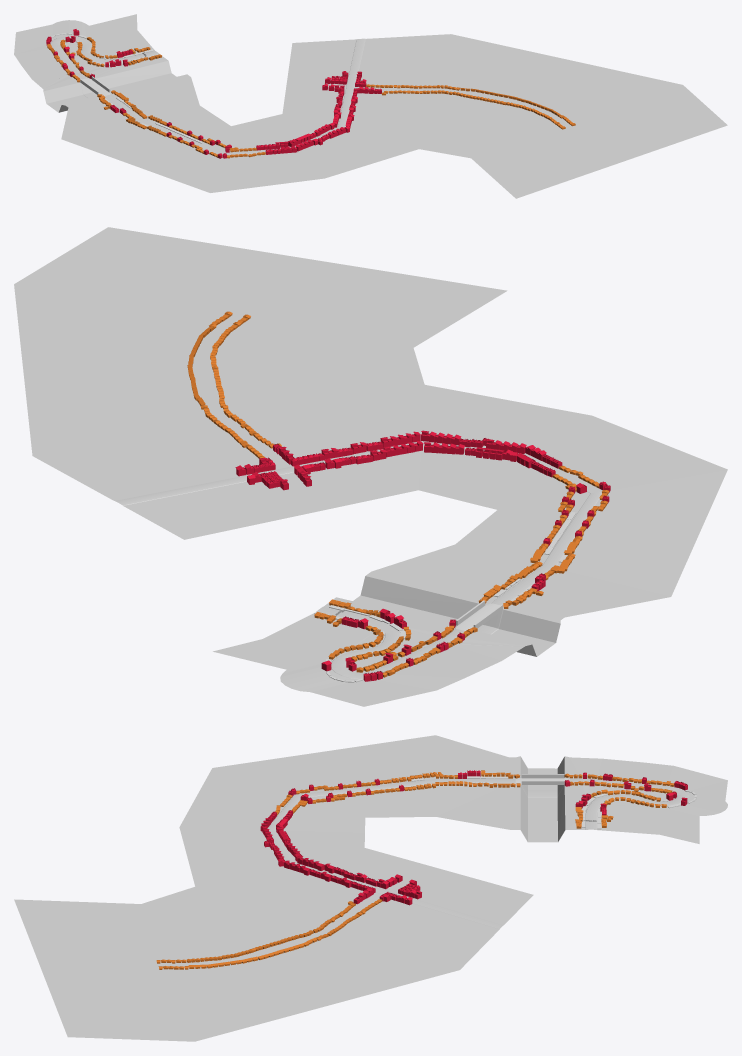
Rendered from event3_char1_v1.glb.
3 renders of one model, top to bottom at view 1: azimuth 30°, elevation 25°; view 2: azimuth 150°, elevation 25°; view 3: azimuth 270°, elevation 25°, orthographic. The views are drawn at different scales.
Parts seen in each view (by area): view 1: greound; view 2: greound; view 3: greound.
Boxes of the visible parts, left/top/right/bottom form: greound: left=14, top=14, right=727, bottom=198; greound: left=14, top=227, right=727, bottom=706; greound: left=14, top=735, right=727, bottom=1041.
Bounding box in the file's own units: 962 × 27.42 × 946.
